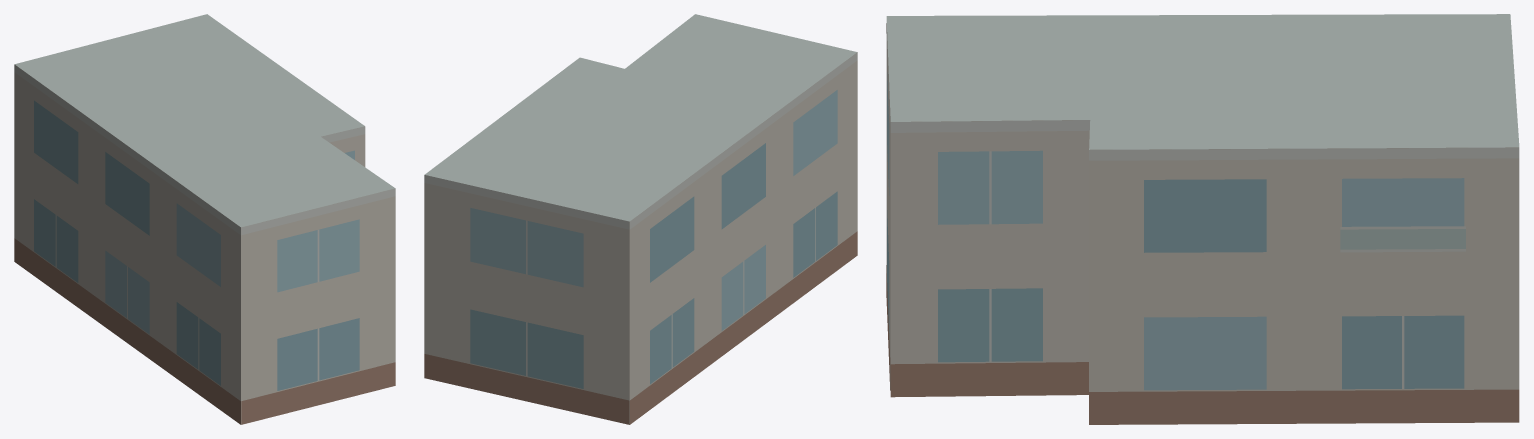
The model's file is survey-upis-32773518.glb.
The picture shows the model from 3 angles, left to right: view 1: azimuth 30°, elevation 25°; view 2: azimuth 150°, elevation 25°; view 3: azimuth 270°, elevation 25°; orthographic projection. The views are drawn at different scales.
Visible parts, largest first — view 1: survey-upis-32773518.tmp; view 2: survey-upis-32773518.tmp; view 3: survey-upis-32773518.tmp.
Boxes of the visible parts, x1,y1,x2,y2 form: survey-upis-32773518.tmp: (14,14,395,424); survey-upis-32773518.tmp: (424,14,857,424); survey-upis-32773518.tmp: (886,14,1519,424).
Bounding box in the file's own units: 6.47 × 6.1 × 12.73.
